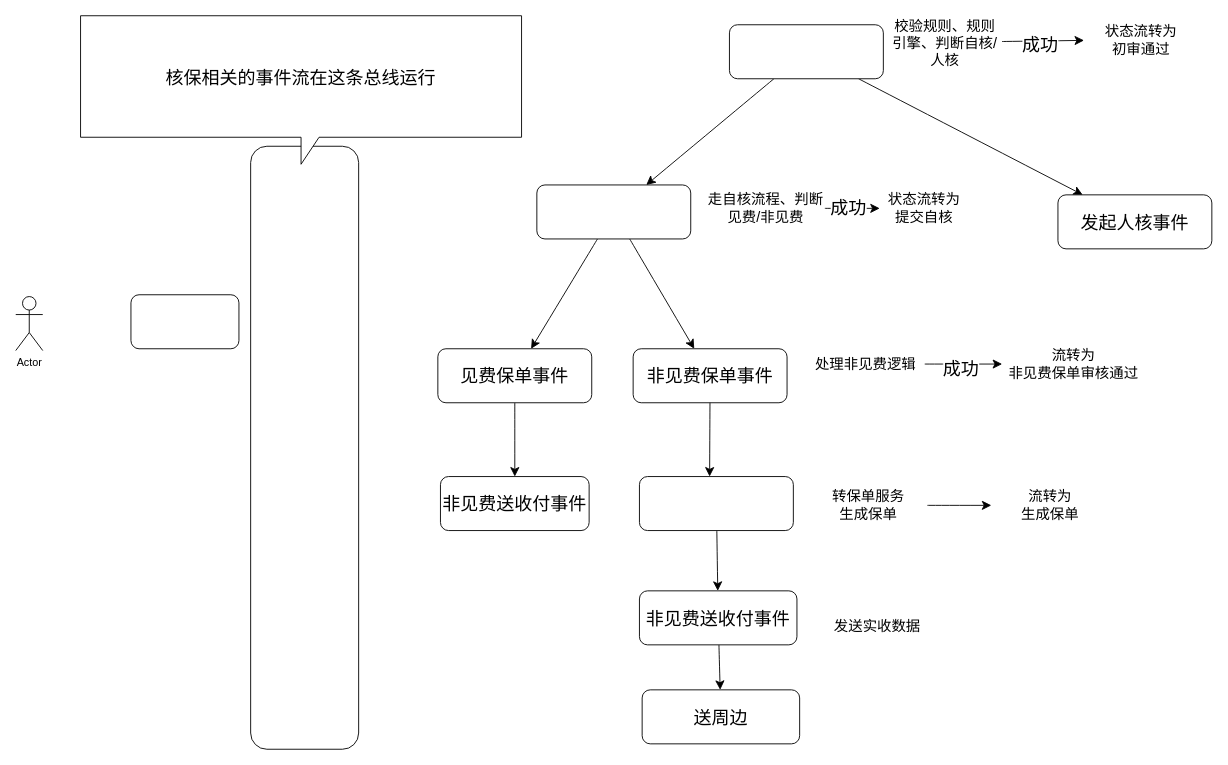
The diagram is 1228 pixels wide and 765 high, and some of its shapes have lost their labels. The box of each missing label's shape, as (x1, y1, x2, y2) in pixels:
发起自核事件: (536, 184, 691, 239)
提交审核事件: (729, 24, 883, 79)
提核接口: (130, 294, 239, 349)
转保单事件: (639, 476, 793, 531)
